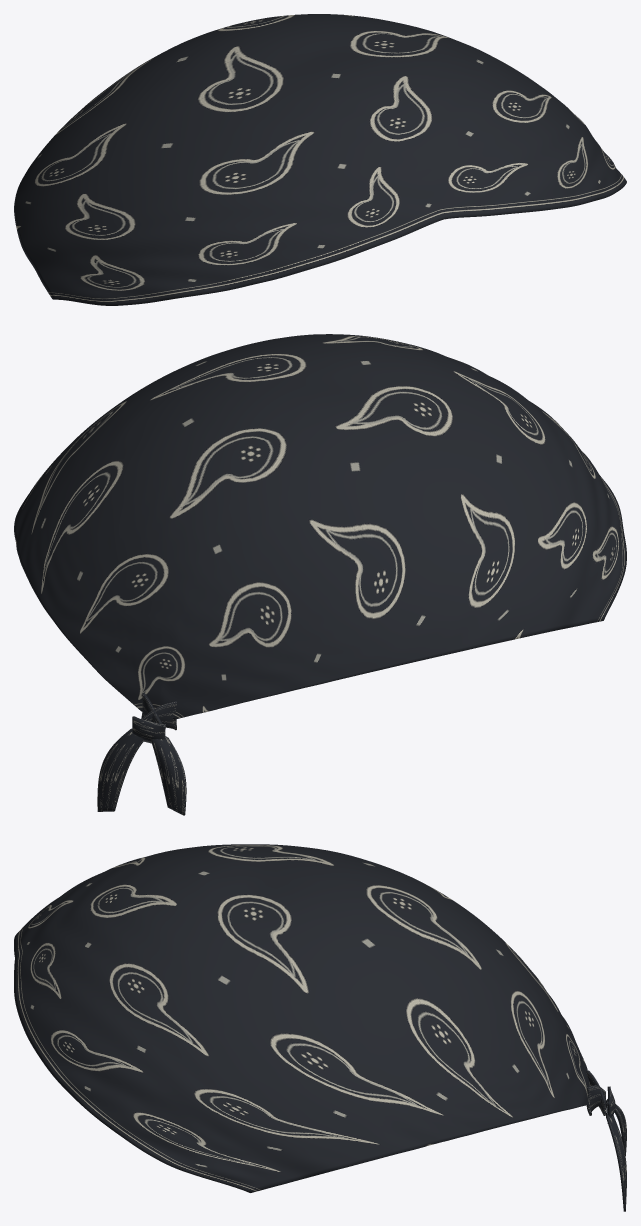
File: Feminine-twin-braids-bandana.glb
The picture shows the model from 3 angles, top to bottom: view 1: azimuth 30°, elevation 25°; view 2: azimuth 150°, elevation 25°; view 3: azimuth 270°, elevation 25°; orthographic projection.
Visible parts, largest first — view 1: Bandana / folded crown scarf; view 2: Bandana / folded crown scarf, Bandana / falling tie 1, Bandana / falling tie -1; view 3: Bandana / folded crown scarf, Bandana / falling tie 1.
Boxes of the visible parts, x1,y1,x2,y2 form: Bandana / folded crown scarf: [14, 14, 626, 305]; Bandana / folded crown scarf: [14, 334, 626, 719]; Bandana / falling tie 1: [97, 728, 144, 811]; Bandana / falling tie -1: [151, 736, 186, 815]; Bandana / folded crown scarf: [14, 844, 590, 1192]; Bandana / falling tie 1: [606, 1100, 626, 1211].
Bounding box in the file's own units: 0.739 × 0.397 × 0.7095.
Materials: 1 (1 with a texture image).
